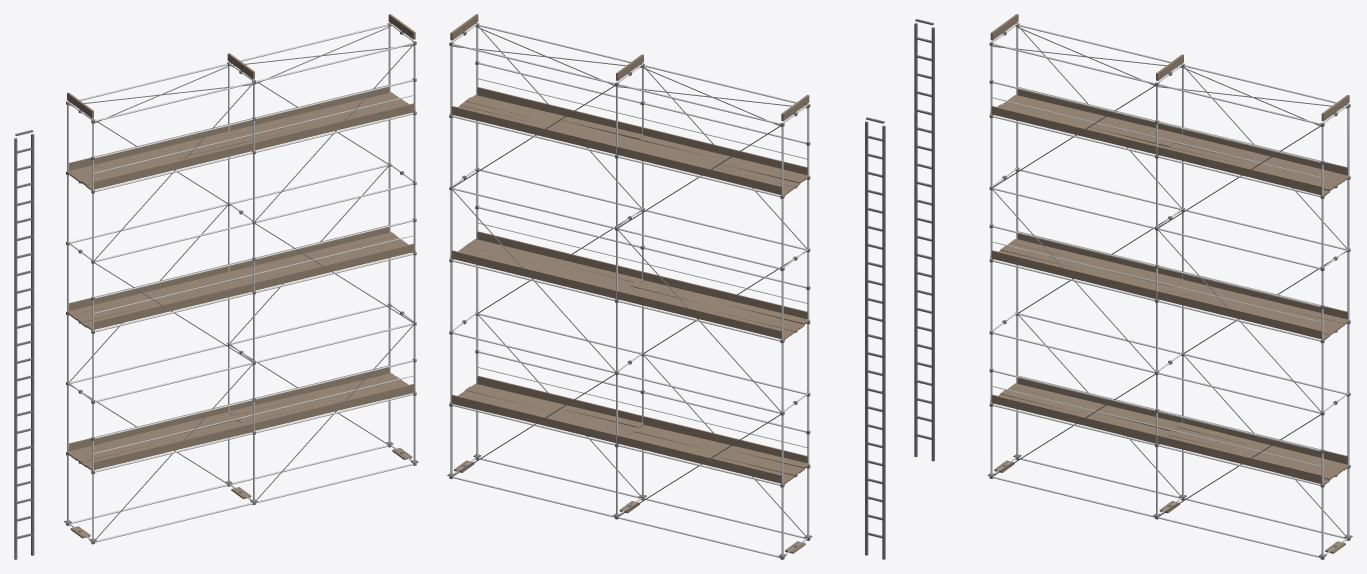
The model's file is scaffolding.glb.
3 renders of one model, left to right at view 1: azimuth 30°, elevation 25°; view 2: azimuth 150°, elevation 25°; view 3: azimuth 330°, elevation 25°, orthographic. The views are drawn at different scales.
Parts seen in each view (by area): view 1: wood, metal, darkMetal; view 2: wood, metal, darkMetal; view 3: wood, metal, darkMetal.
Part boxes in pixels (x1,y1,x2,y2): wood: (66,14,415,538); metal: (67,23,415,542); darkMetal: (14,22,418,559); wood: (450,14,809,553); metal: (450,23,809,557); darkMetal: (447,23,885,559); wood: (990,14,1349,553); metal: (990,23,1349,557); darkMetal: (914,19,1352,559).
Bounding box in the file's own units: 12 × 12.34 × 1.45.
